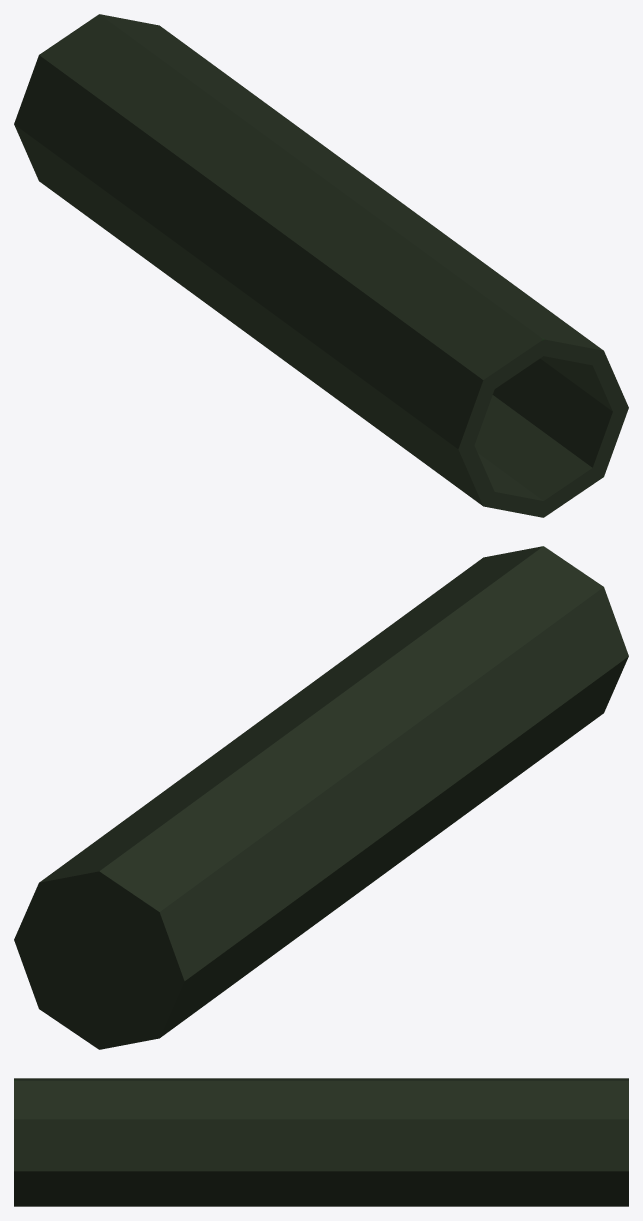
The model's file is tank_cannon.fbx.
3 views of the same model, one above another, from view 1: azimuth 30°, elevation 25°; view 2: azimuth 150°, elevation 25°; view 3: azimuth 270°, elevation 25° (orthographic). The views are drawn at different scales.
Parts seen in each view (by area): view 1: Cannon; view 2: Cannon; view 3: Cannon.
Part boxes in pixels (x1,y1,x2,y2): Cannon: (14,14,628,517); Cannon: (14,546,628,1049); Cannon: (14,1078,628,1206).
Bounding box in the file's own units: 1.04 × 1.04 × 4.71.
